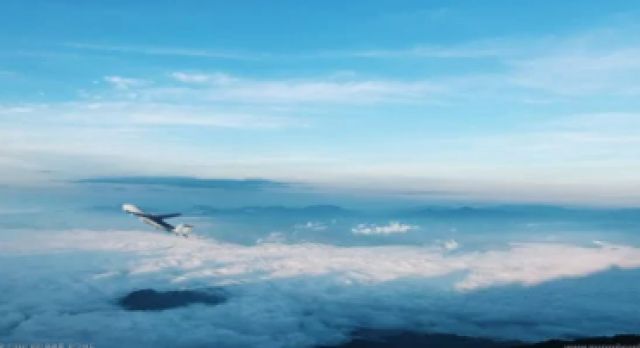military drone: (121, 203, 193, 239)
